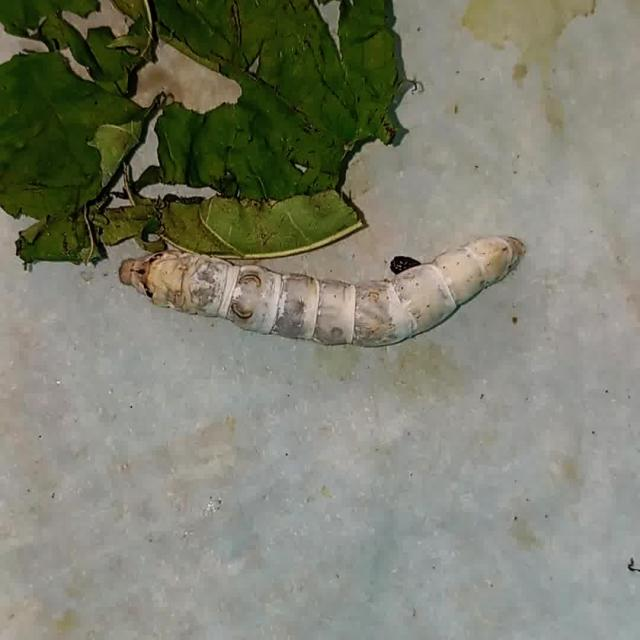Grasserie: (117, 220, 529, 354)
